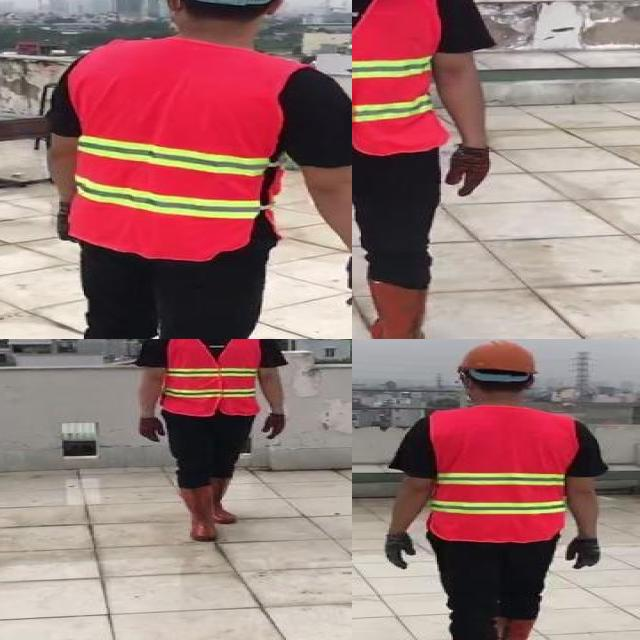boots: (364, 276, 455, 339), (178, 487, 218, 542), (208, 475, 240, 524), (495, 618, 534, 640)
hand_glove: (447, 146, 492, 196), (384, 533, 416, 570), (566, 536, 600, 568), (138, 418, 170, 442), (263, 414, 288, 442)
head_helmet: (449, 339, 541, 377)
person: (26, 0, 352, 339), (366, 339, 615, 640), (352, 0, 500, 339), (128, 339, 297, 545)
vest: (68, 45, 281, 260), (428, 406, 576, 543), (352, 0, 446, 157), (157, 339, 259, 418)
